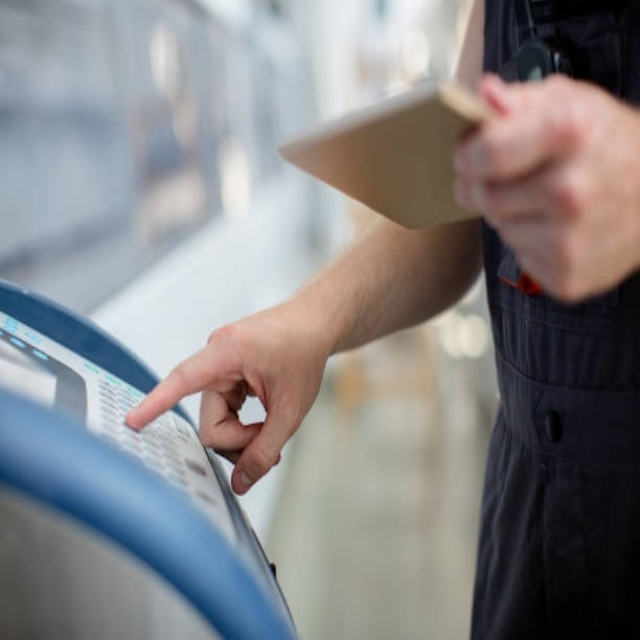Sin_guantes: (448, 67, 636, 300), (123, 315, 319, 500)
